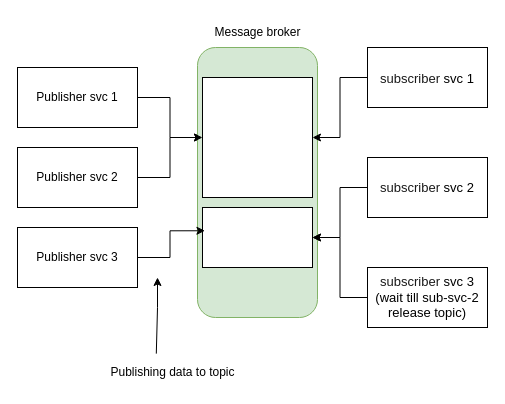
Image size: 505x404. Some labels were removed from this diagram. The box of each missing label's shape, as (x1, y1, x2, y2) in pixels:
Topic 1: (202, 76, 312, 198)
Topic 2: (202, 206, 312, 268)
